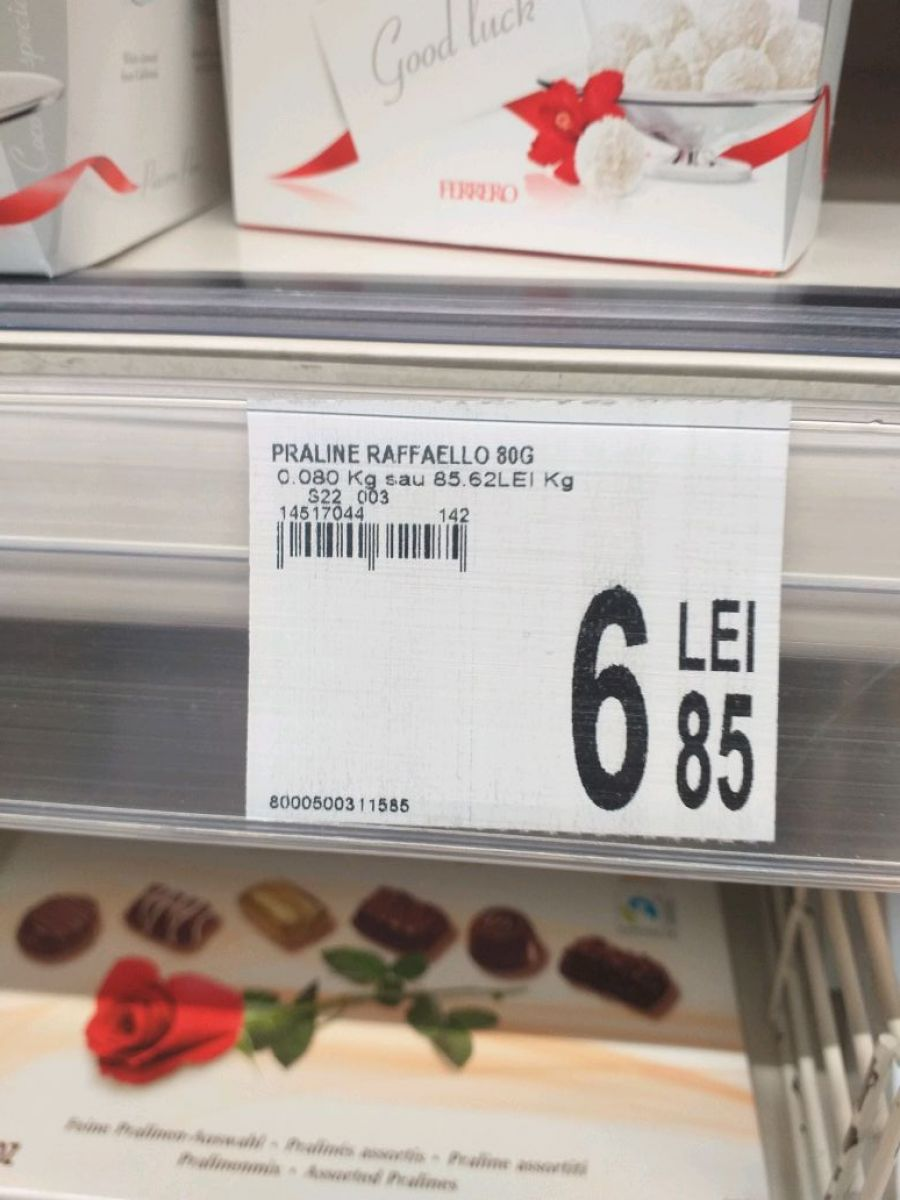price_bani: (667, 687, 764, 820)
price_lei: (560, 576, 658, 820)
price_tag: (221, 376, 814, 855)
product_id: (260, 789, 417, 820)
product_name: (260, 437, 556, 466)
